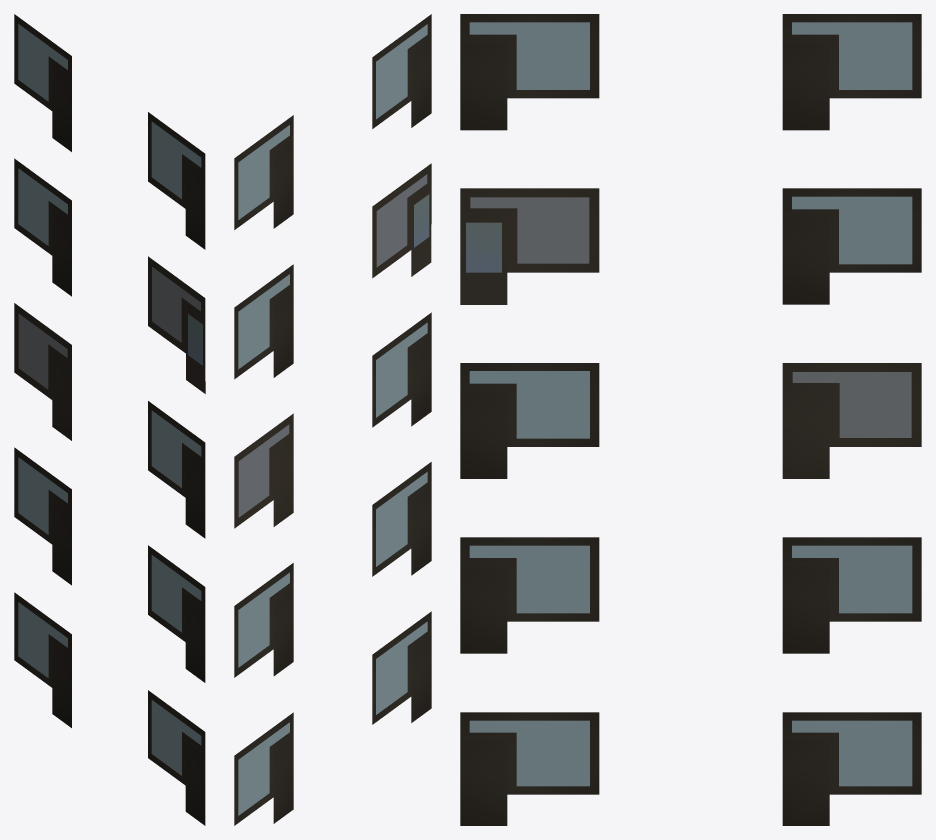
Rendered from Door balcon.fbx.
3 renders of one model, left to right at view 1: azimuth 30°, elevation 25°; view 2: azimuth 150°, elevation 25°; view 3: azimuth 270°, elevation 25°, orthographic. The views are drawn at different scales.
Visible parts, largest first — view 1: Rami and okna balconov hrushevka_.001; view 2: Rami and okna balconov hrushevka_.001; view 3: Rami and okna balconov hrushevka_.001.
Boxes of the visible parts, bbox=[...] form: Rami and okna balconov hrushevka_.001: bbox=[14, 14, 205, 825]; Rami and okna balconov hrushevka_.001: bbox=[234, 14, 431, 825]; Rami and okna balconov hrushevka_.001: bbox=[460, 14, 921, 825].
Size of the model in its own units: 1.58 by 3399 by 1749.
